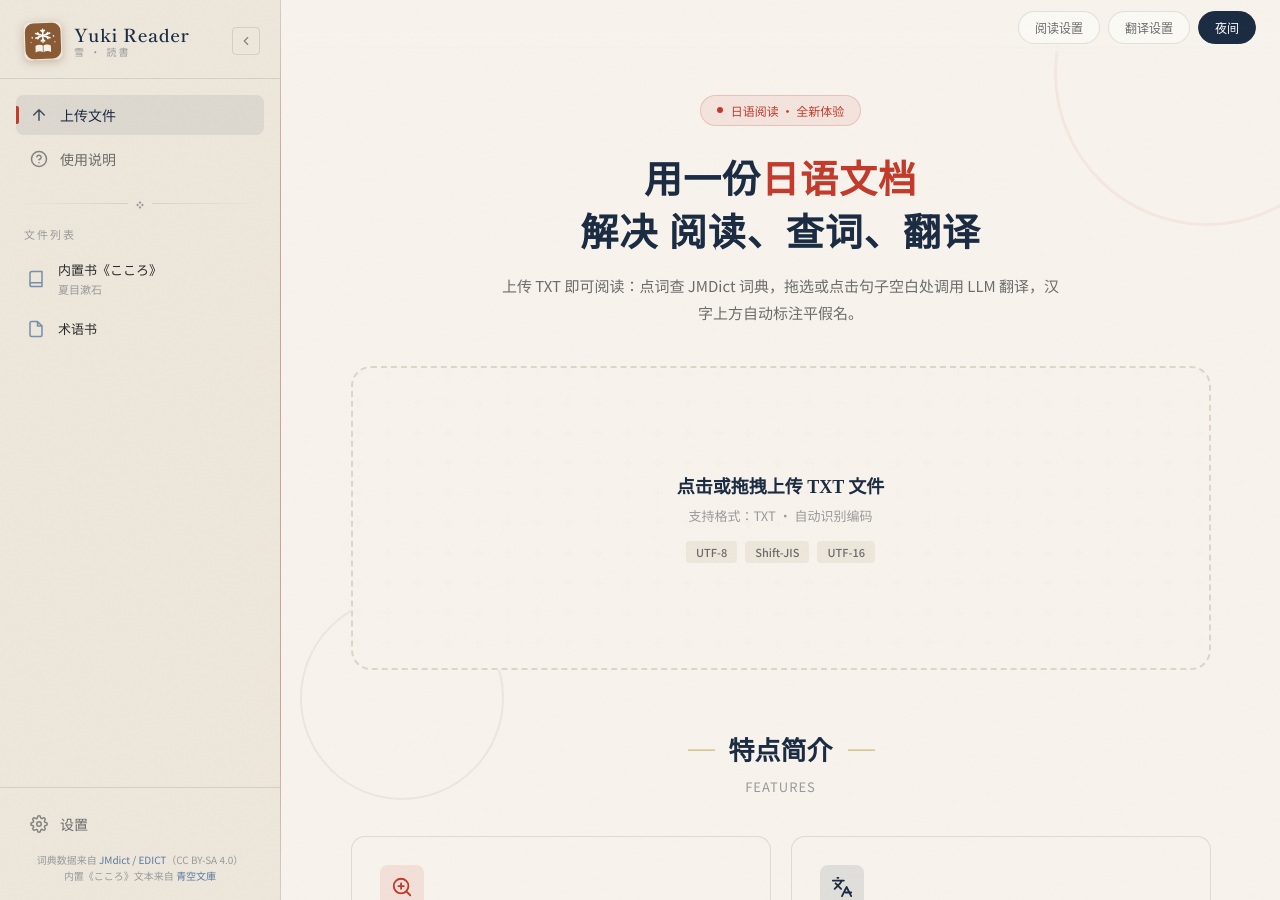
每书术语表 › prefills katakana candidates from the translated sentence
The width and height of the screenshot is (1280, 900).
Click the button "术语书": coordinates (125, 328) x1=12 y1=309 x2=238 y2=348
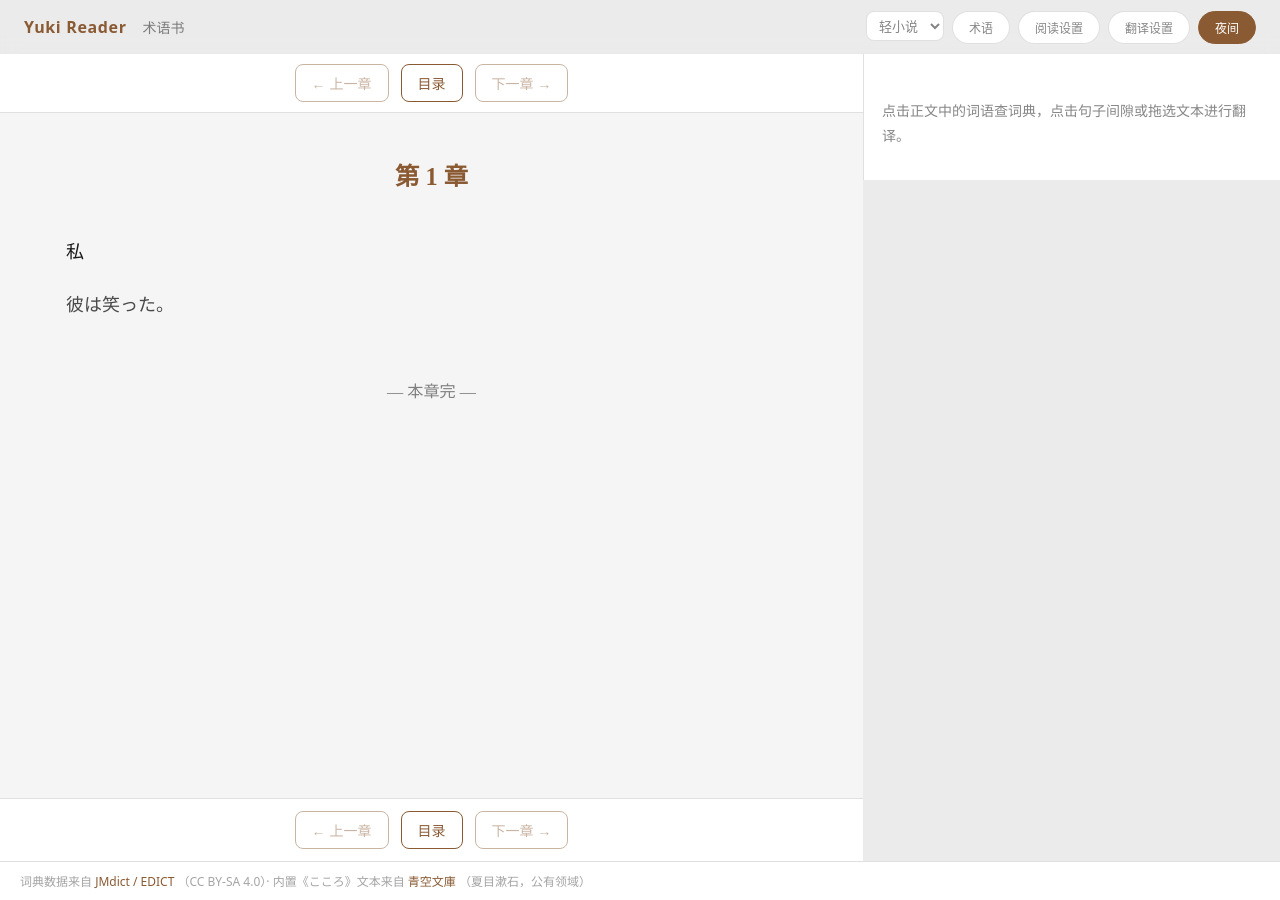
Click the element with test id "sentence" showing "私": coordinates (75, 252) x1=66 y1=242 x2=84 y2=262
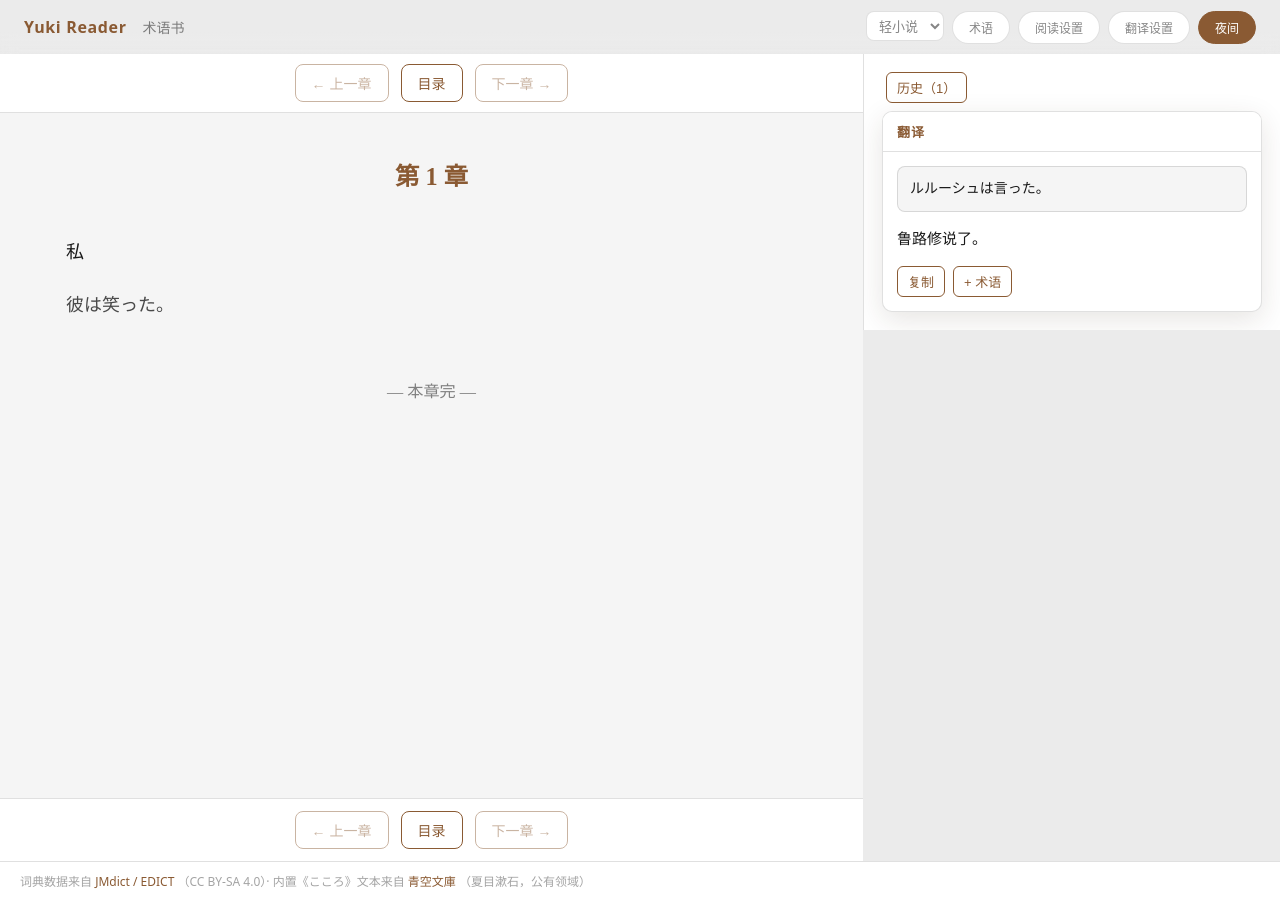
Expected: the text "鲁路修说了。" is shown, x1=897 y1=228 x2=987 y2=248
Click the button "+ 术语": coordinates (983, 282) x1=953 y1=266 x2=1012 y2=297
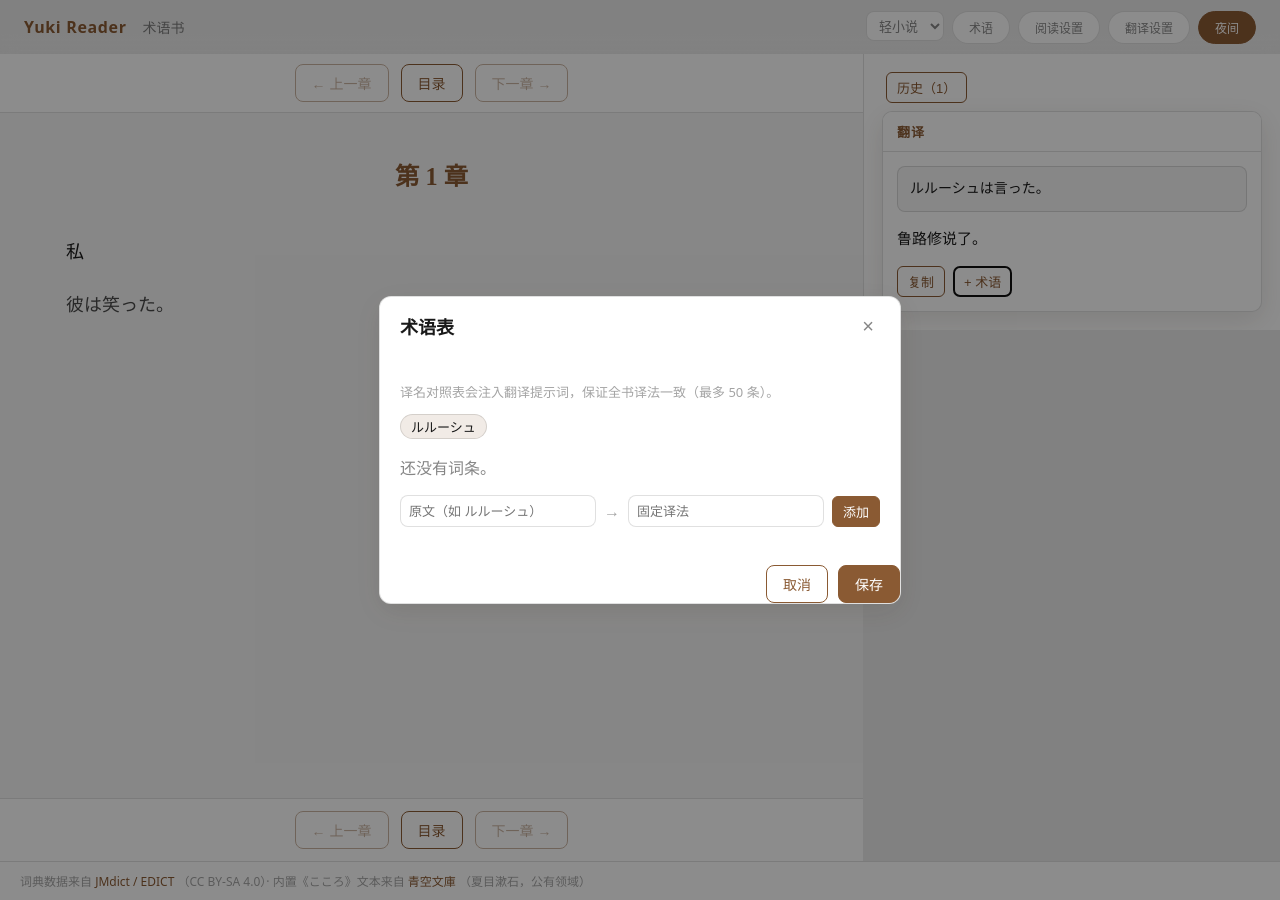
Click the button "ルルーシュ": coordinates (443, 426) x1=400 y1=414 x2=487 y2=439
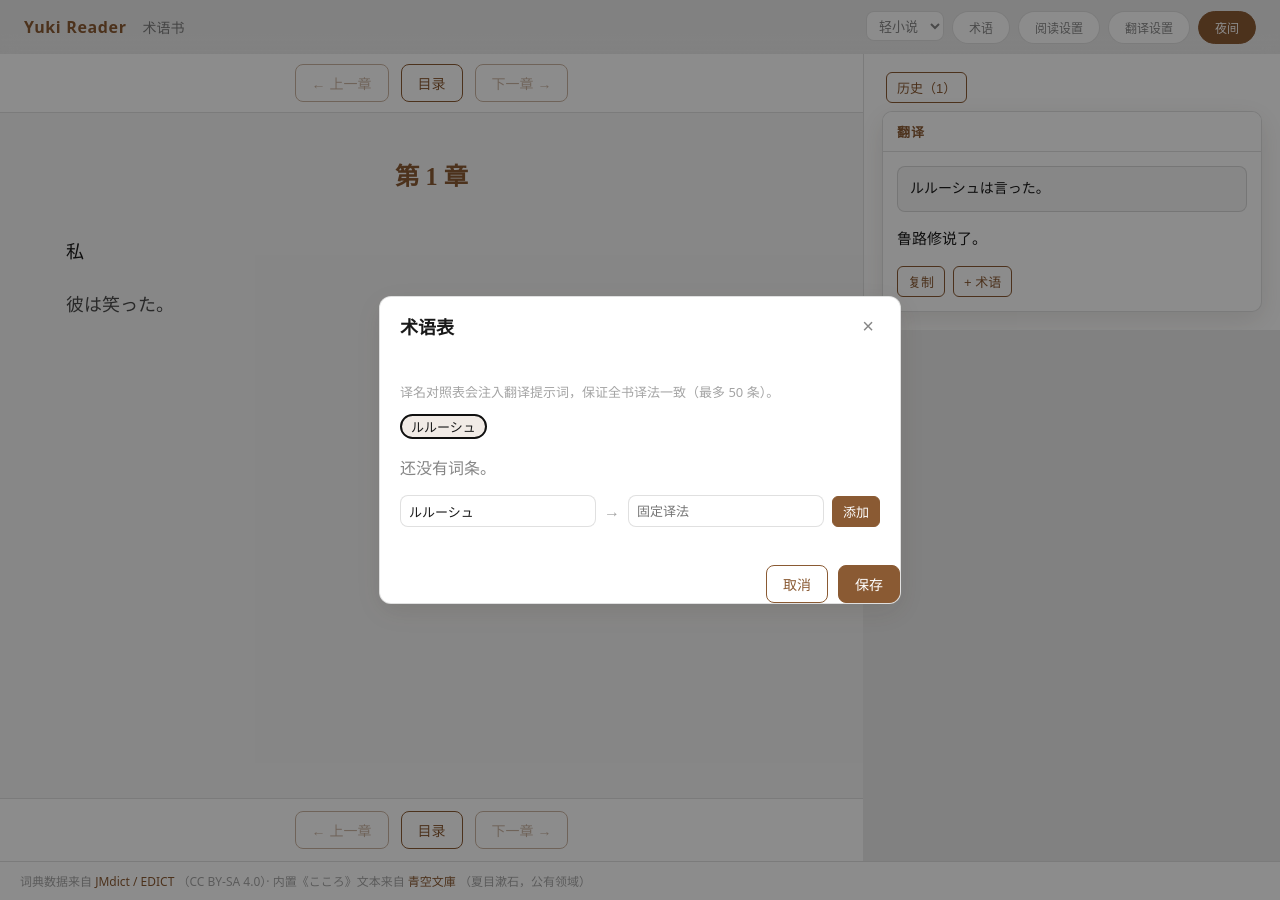
Expected: the field named "术语原文" holds "ルルーシュ", x1=400 y1=495 x2=596 y2=527
